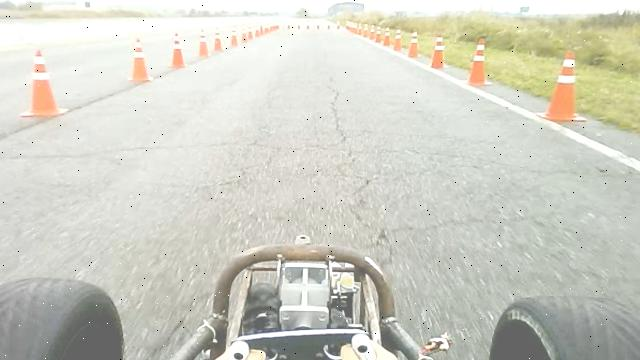red cone: (536, 51, 587, 122), (20, 49, 69, 118), (464, 36, 493, 86), (128, 36, 153, 82), (168, 32, 187, 68), (429, 35, 446, 69), (196, 28, 210, 58), (407, 30, 421, 58), (213, 28, 224, 52), (392, 28, 402, 51), (382, 26, 391, 47), (230, 27, 239, 46), (240, 25, 248, 43)
